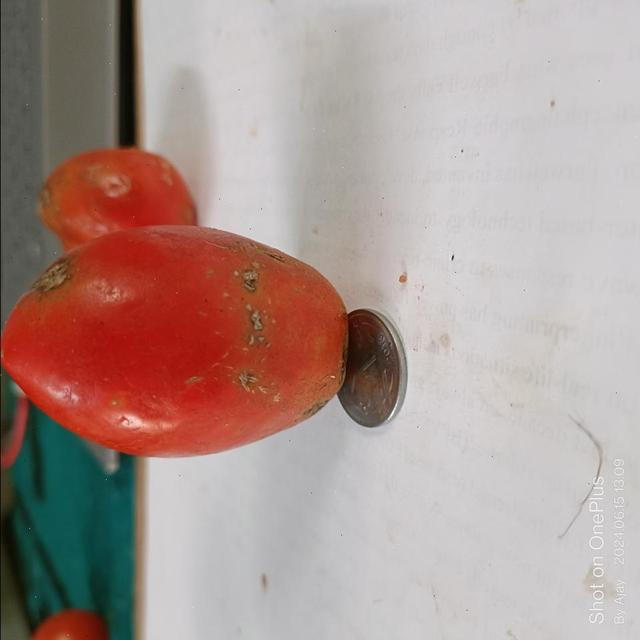Bacterial Spot Fruit: (22, 16, 173, 254)
